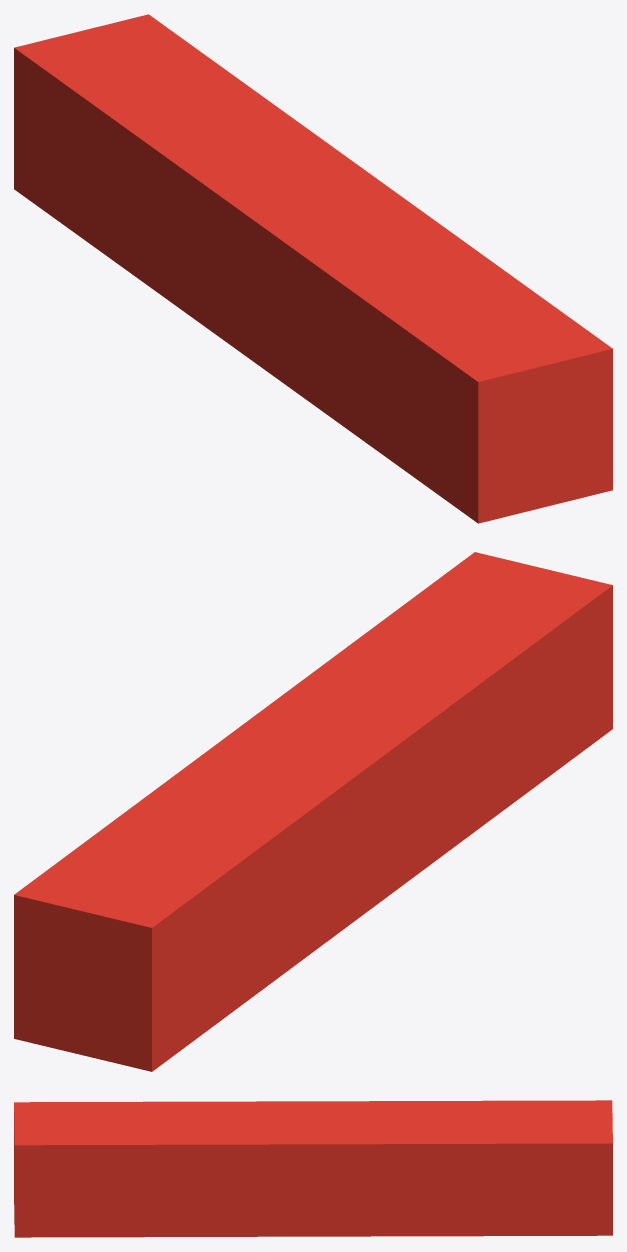
The model's file is group489385328_lev2.glb.
3 renders of one model, top to bottom at view 1: azimuth 30°, elevation 25°; view 2: azimuth 150°, elevation 25°; view 3: azimuth 270°, elevation 25°, orthographic. The views are drawn at different scales.
Visible parts, largest first — view 1: group489385328_lev2; view 2: group489385328_lev2; view 3: group489385328_lev2.
Part boxes in pixels (x1,y1,x2,y2): group489385328_lev2: (14, 14, 612, 523); group489385328_lev2: (14, 552, 612, 1071); group489385328_lev2: (14, 1100, 612, 1237).
Size of the model in its own units: 0.4996 by 0.48 by 2.82.
